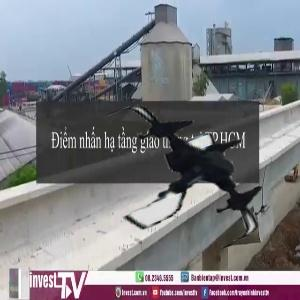drone: (105, 90, 274, 259)
